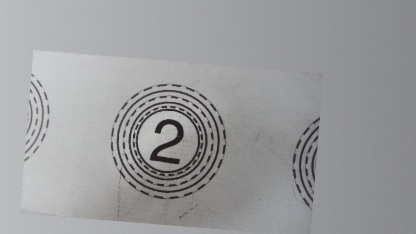2r: (104, 77, 231, 204)
